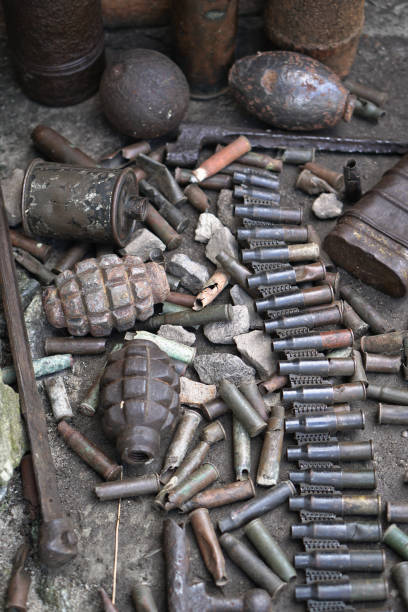e1: (99, 341, 185, 464), (41, 253, 170, 334)
